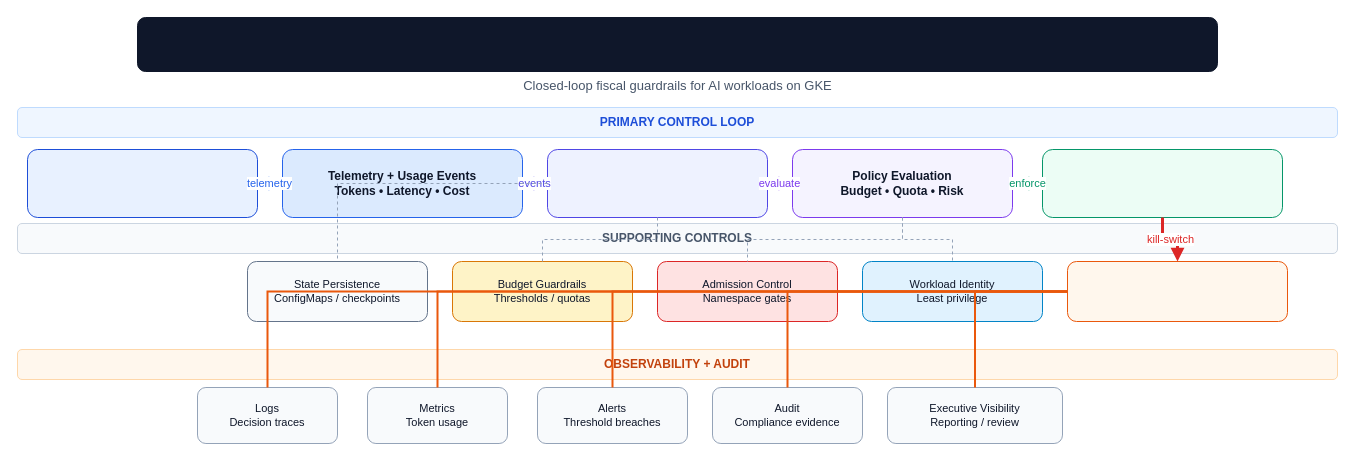
Image size: 1355x461. Some labels were removed from this diagram. Here are the shapes that lost their labels. From the top down, the centre of each, then its label:
At [677,44]: "Serverless Agentic Governance Controller".
At [142,183]: "AI Workloads Models • Prompts • Agents".
At [657,183]: "Governance Controller Python + AsyncIO".
At [1162,183]: "Kyverno + RBAC Admission + authorization".
At [1177,291]: "Autonomous Remediation Kill-switch / rollback".
